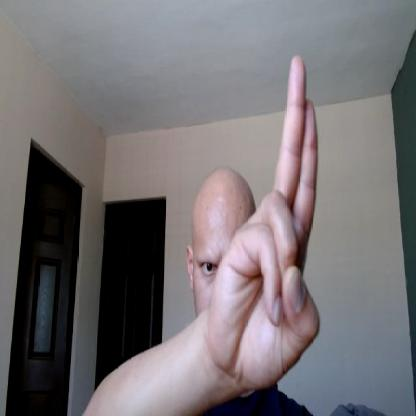U: (214, 54, 320, 392)
